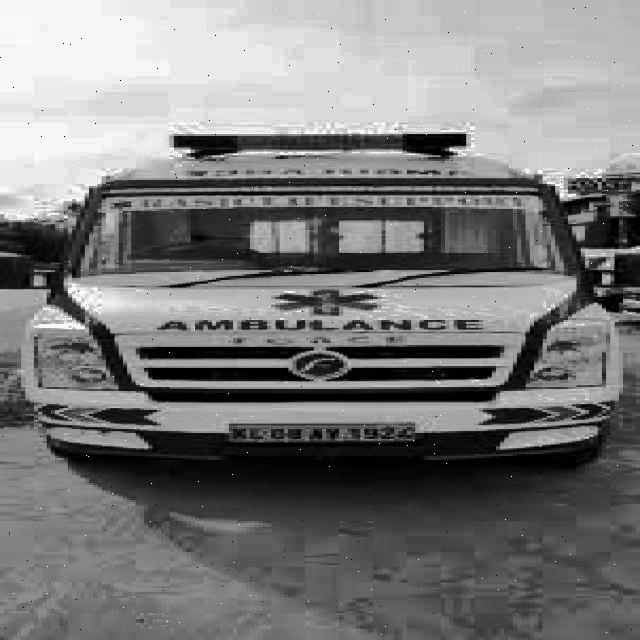LCV: (0, 133, 621, 464)
